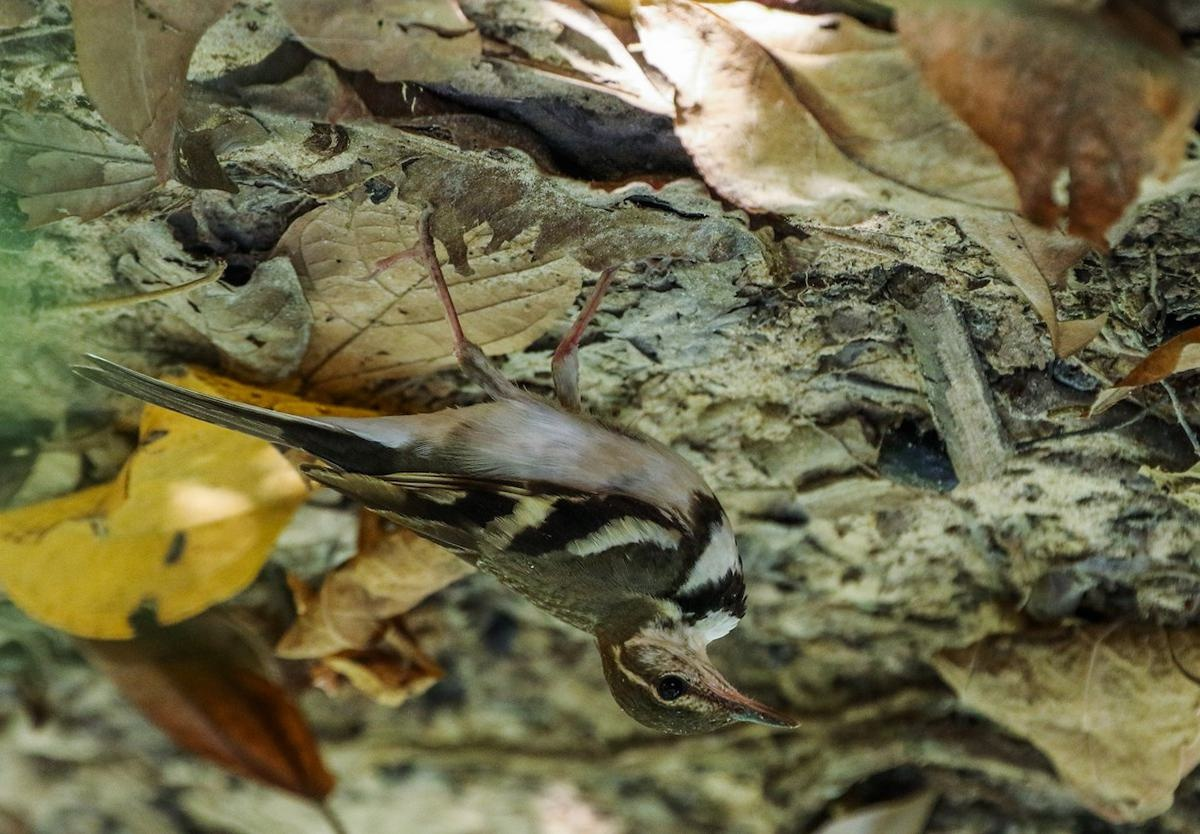wagtail: (216, 350, 816, 748)
